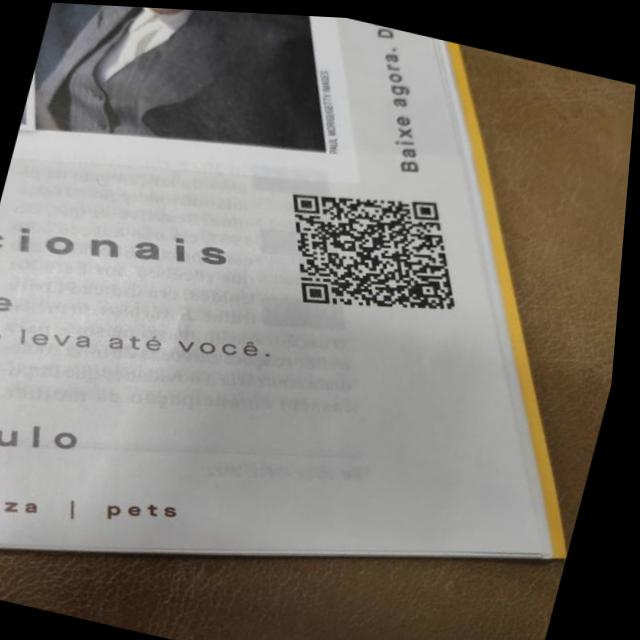qrcode: (271, 168, 485, 331)
